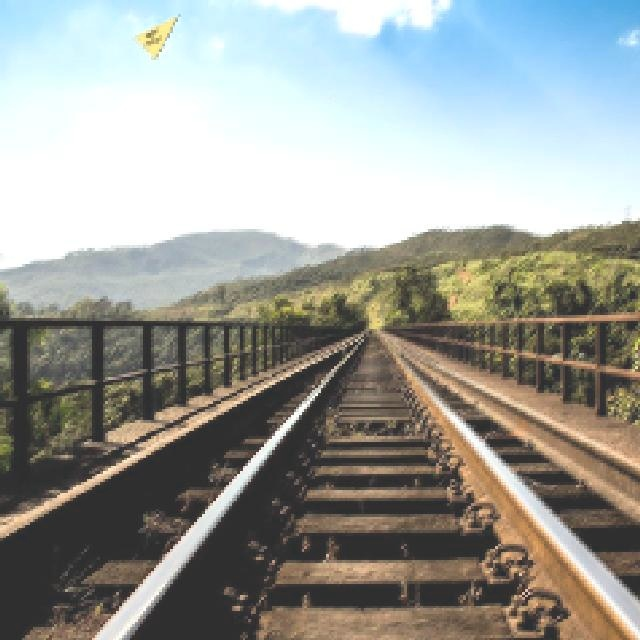NOT_YIELD: (132, 13, 178, 59)
